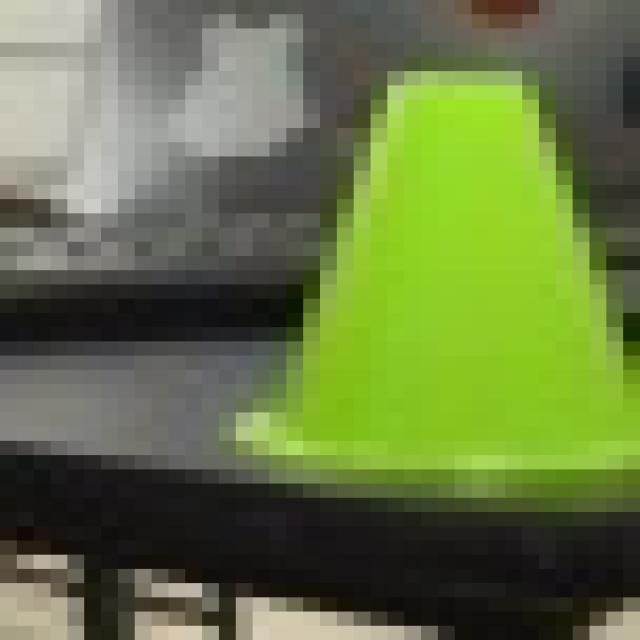cono: (219, 57, 623, 483)
